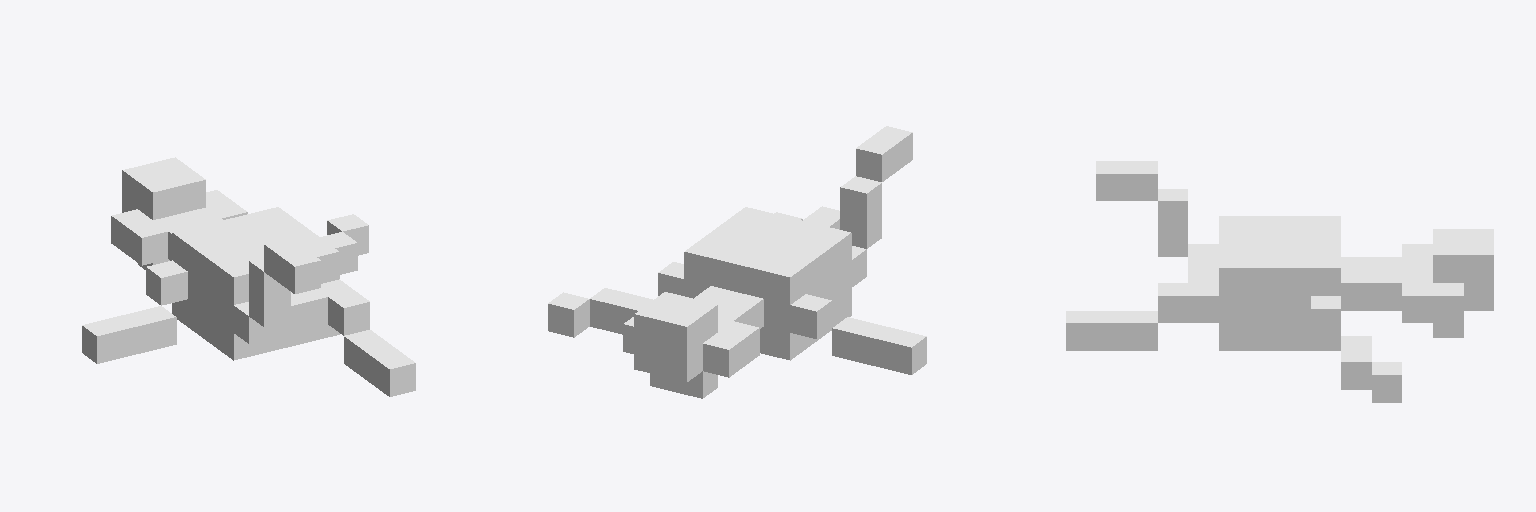
File: scummBarPirate13.obj
3 renders of one model, left to right at view 1: azimuth 30°, elevation 25°; view 2: azimuth 150°, elevation 25°; view 3: azimuth 270°, elevation 25°, orthographic.
Size of the model in its own units: 12 by 5 by 14.